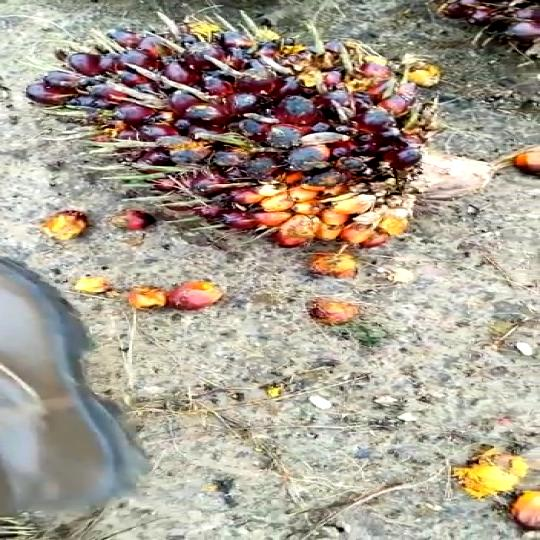masak: (13, 9, 488, 292)
